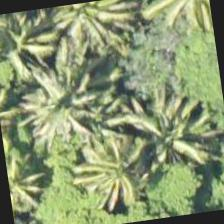Kelapa_Sawit: (13, 46, 116, 148), (122, 75, 223, 178), (68, 114, 169, 216), (2, 132, 61, 223)
